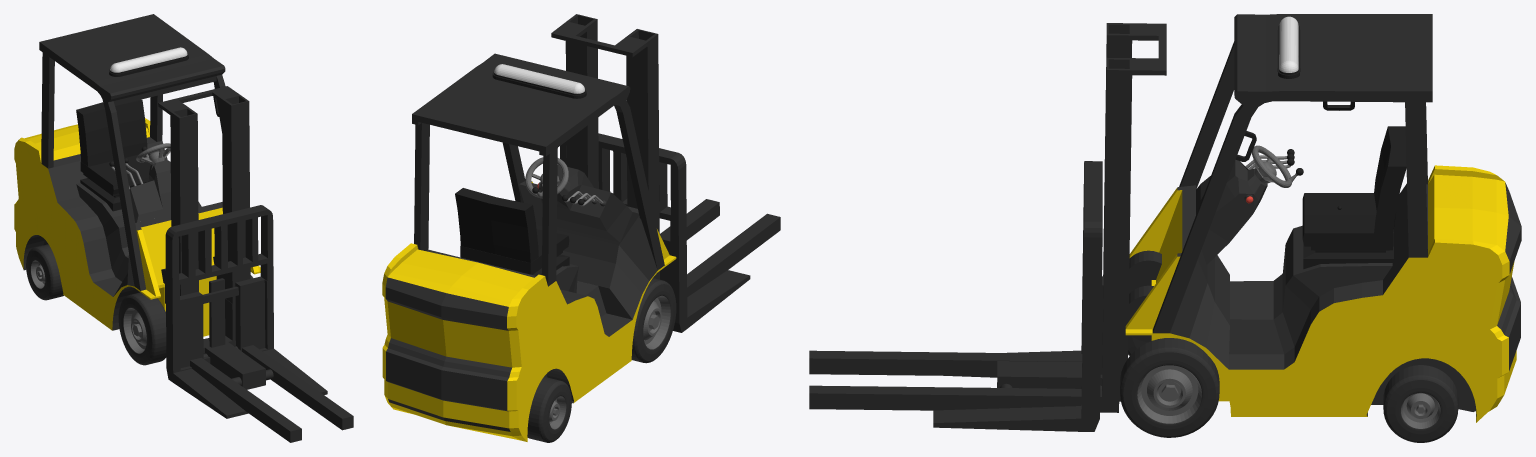
Rendered from Electric_Forklift.fbx.
The picture shows the model from 3 angles, left to right: view 1: azimuth 30°, elevation 25°; view 2: azimuth 150°, elevation 25°; view 3: azimuth 270°, elevation 25°; orthographic projection. The views are drawn at different scales.
Visible parts, largest first — view 1: Cabina_central_modelo.001, Pala.002, Estructura_pala.002, Cube.049, Ruedas_delanteras.006, Rueda_atras_izquierda.001, Bolante.001; view 2: Cabina_central_modelo.001, Estructura_pala.002, Pala.002, Cube.049, Ruedas_delanteras.006, Rueda_atras_izquierda.001, Bolante.001; view 3: Cabina_central_modelo.001, Cube.049, Estructura_pala.002, Pala.002, Ruedas_delanteras.007, Rueda_atras_iderecha.001, Bolante.001.
Boxes of the visible parts, box(x1,y1,x2,y2) form: Cabina_central_modelo.001: box(14, 14, 260, 336); Pala.002: box(165, 205, 327, 418); Estructura_pala.002: box(158, 86, 250, 353); Cube.049: box(190, 340, 353, 442); Ruedas_delanteras.006: box(118, 292, 166, 365); Rueda_atras_izquierda.001: box(26, 244, 63, 300); Bolante.001: box(136, 143, 170, 164); Cabina_central_modelo.001: box(382, 53, 676, 441); Estructura_pala.002: box(551, 14, 659, 279); Pala.002: box(560, 133, 750, 332); Cube.049: box(661, 199, 780, 296); Ruedas_delanteras.006: box(631, 278, 676, 363); Rueda_atras_izquierda.001: box(527, 376, 571, 442); Bolante.001: box(525, 157, 568, 198); Cabina_central_modelo.001: box(1125, 14, 1521, 422); Cube.049: box(809, 350, 1119, 412); Estructura_pala.002: box(1102, 23, 1166, 401); Pala.002: box(933, 161, 1103, 431); Ruedas_delanteras.007: box(1120, 338, 1219, 437); Rueda_atras_iderecha.001: box(1383, 365, 1458, 442); Bolante.001: box(1252, 145, 1303, 187).
Bounding box in the file's own units: 1.24 × 2.46 × 4.37.
